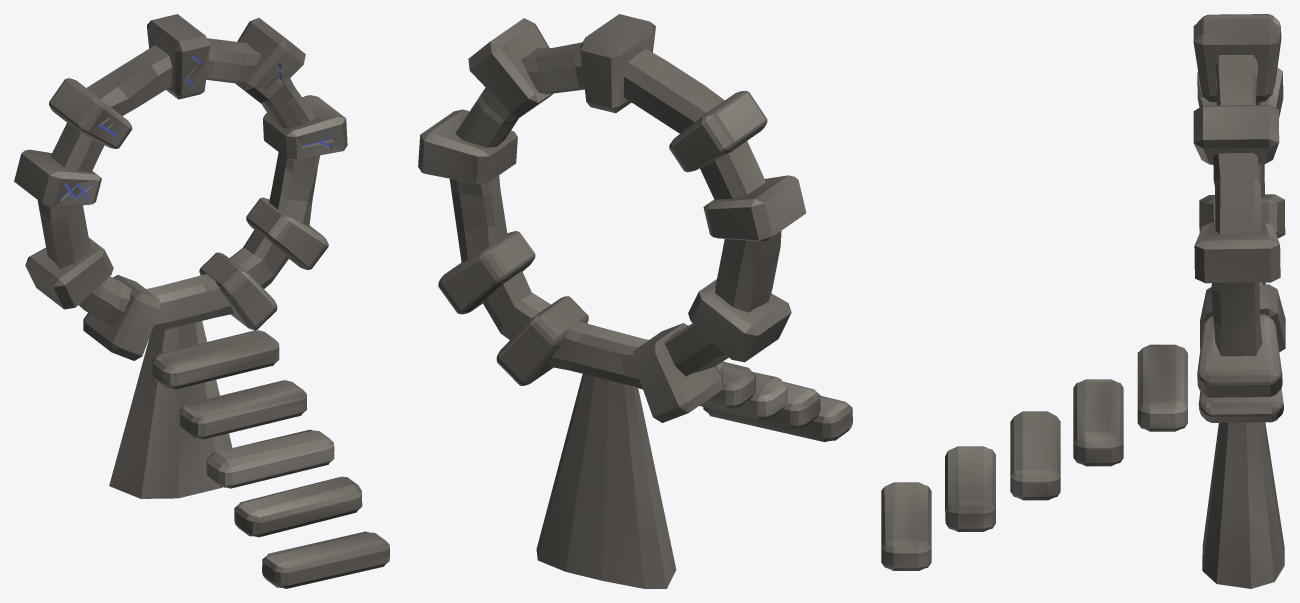
3 renders of one model, left to right at view 1: azimuth 30°, elevation 25°; view 2: azimuth 150°, elevation 25°; view 3: azimuth 270°, elevation 25°, orthographic. The views are drawn at different scales.
Parts seen in each view (by area): view 1: portal, Cube.002, Cube, Cube.004, Cube.005, Cube.003; view 2: portal, Cube.003, Cube, Cube.002, Cube.005; view 3: portal, Cube, Cube.003, Cube.005, Cube.004, Cube.002.
Part boxes in pixels (x1=…): portal: x1=14, y1=14, x2=347, y2=498; Cube.002: x1=234, y1=476, x2=362, y2=537; Cube: x1=206, y1=429, x2=334, y2=488; Cube.004: x1=151, y1=330, x2=279, y2=389; Cube.005: x1=179, y1=380, x2=306, y2=439; Cube.003: x1=262, y1=531, x2=389, y2=588; portal: x1=418, y1=14, x2=806, y2=588; Cube.003: x1=703, y1=395, x2=852, y2=442; Cube: x1=700, y1=372, x2=787, y2=420; Cube.002: x1=699, y1=381, x2=820, y2=429; Cube.005: x1=703, y1=361, x2=755, y2=408; portal: x1=1193, y1=14, x2=1285, y2=588; Cube: x1=1010, y1=411, x2=1060, y2=500; Cube.003: x1=881, y1=482, x2=931, y2=570; Cube.005: x1=1073, y1=379, x2=1123, y2=466; Cube.004: x1=1137, y1=344, x2=1187, y2=431; Cube.002: x1=945, y1=446, x2=995, y2=531.
Size of the model in its own units: 880 by 1260 by 872.
